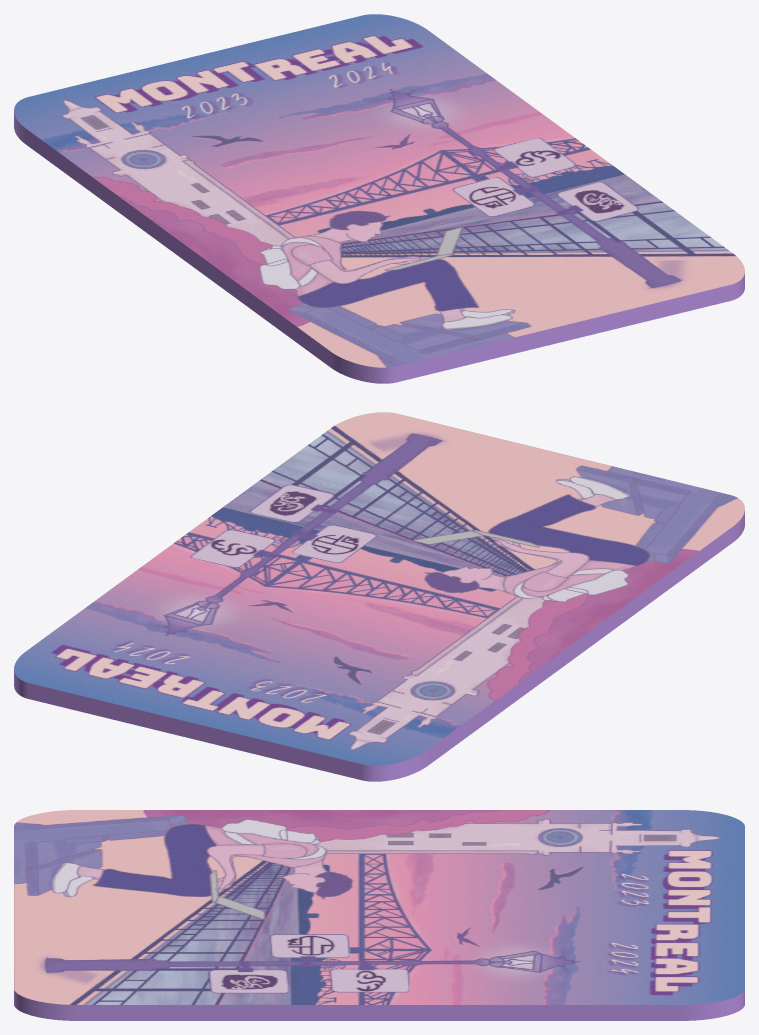
Rendered from CSSA_card.glb.
The picture shows the model from 3 angles, top to bottom: view 1: azimuth 30°, elevation 25°; view 2: azimuth 150°, elevation 25°; view 3: azimuth 270°, elevation 25°; orthographic projection.
Visible parts, largest first — view 1: Plane; view 2: Plane; view 3: Plane.
Part boxes in pixels (bbox=[...]): Plane: bbox=[14, 14, 744, 383]; Plane: bbox=[14, 412, 744, 781]; Plane: bbox=[14, 810, 744, 1020].
Size of the model in its own units: 1.26 by 0.0481 by 2.
Materials: 3 (2 with a texture image).
